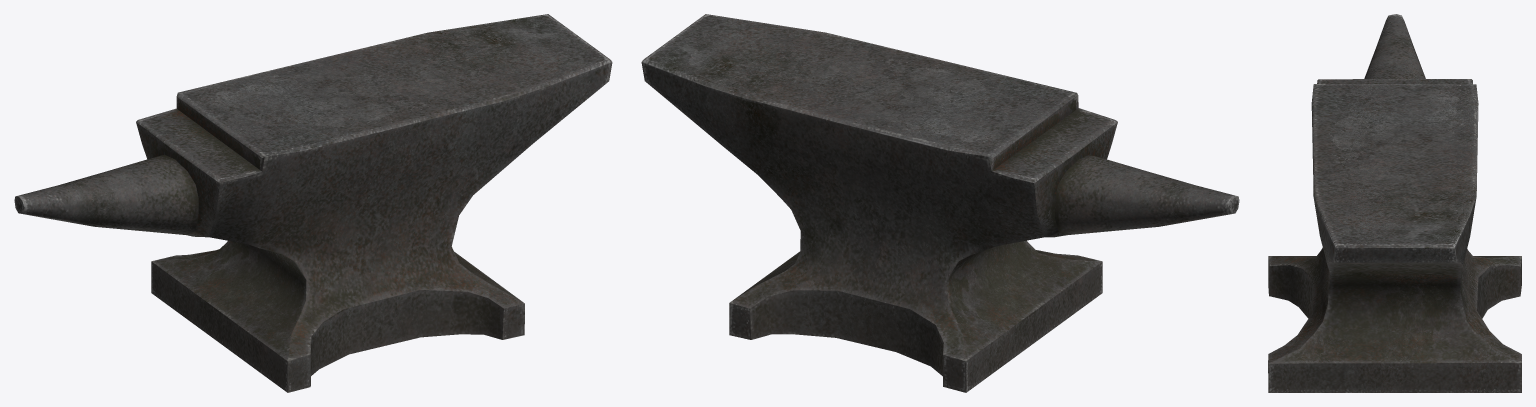
The model's file is SM_anvil_01.fbx.
3 views of the same model, side by side, from view 1: azimuth 30°, elevation 25°; view 2: azimuth 150°, elevation 25°; view 3: azimuth 270°, elevation 25° (orthographic). The views are drawn at different scales.
Visible parts, largest first — view 1: SM_anvil_01_LOD0; view 2: SM_anvil_01_LOD0; view 3: SM_anvil_01_LOD0.
Boxes of the visible parts, x1=… form: SM_anvil_01_LOD0: x1=14, y1=14, x2=612, y2=392; SM_anvil_01_LOD0: x1=641, y1=14, x2=1239, y2=392; SM_anvil_01_LOD0: x1=1268, y1=14, x2=1521, y2=392.
Size of the model in its own units: 117 by 49.1 by 43.36.
Materials: 1 (1 with a texture image).
